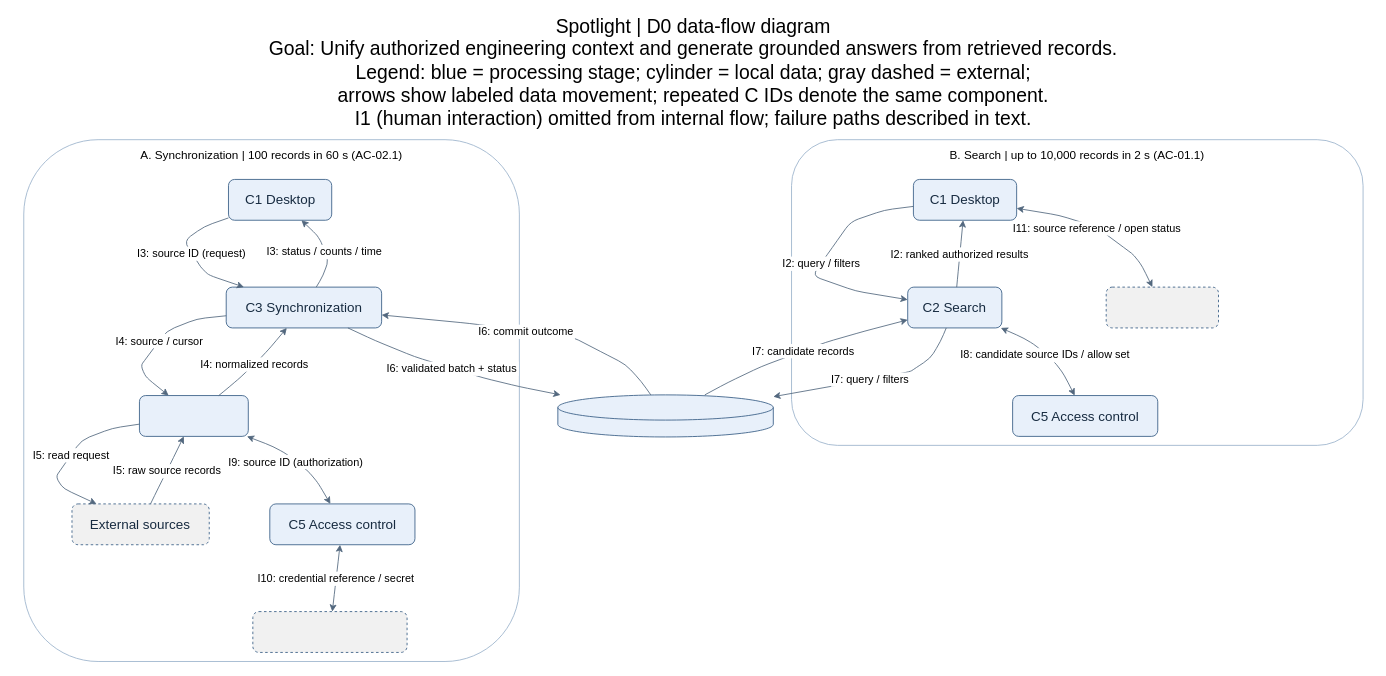
This 1386x676 diagram has some shape labels left out. The centre of each missing label's shape, as x and y in pixels:
"C4 Adapters" belongs at [193,415].
"C6 Local index & state store" belongs at [665,415].
"OS / browser" belongs at [1162,307].
"OS credential vault" belongs at [329,631].
